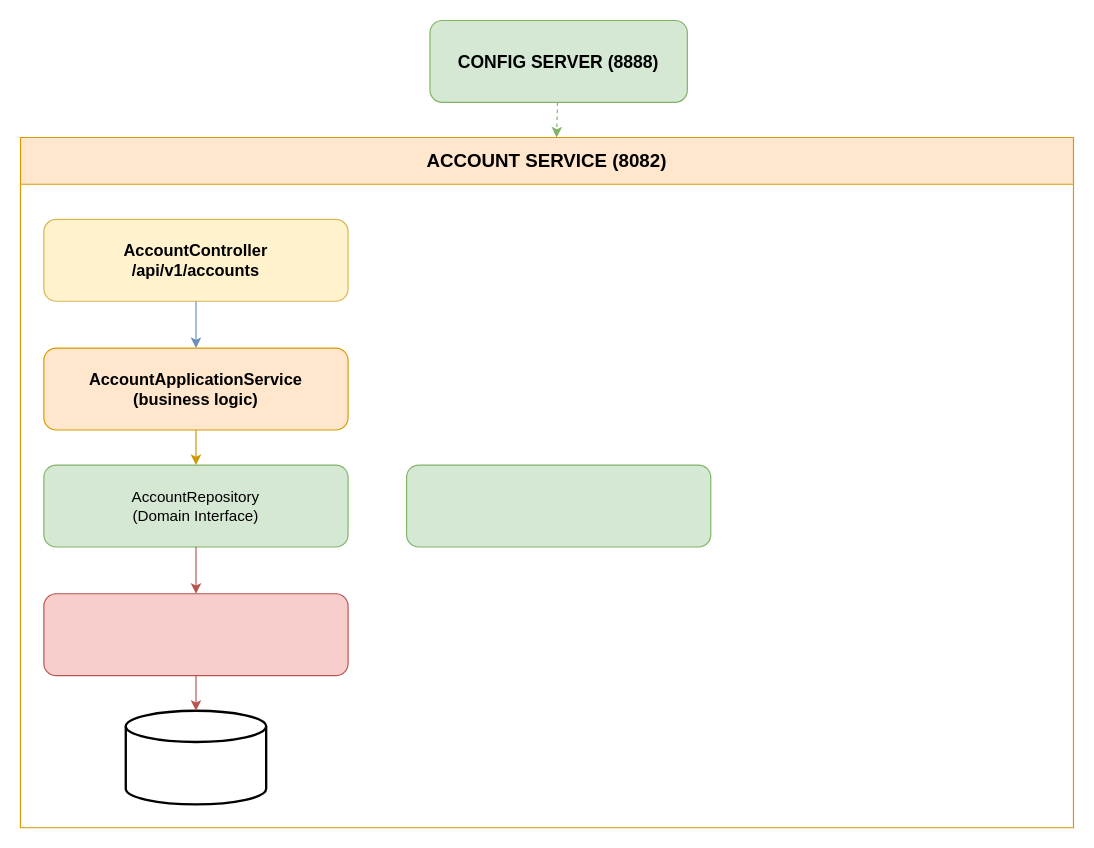
This 1094x848 diagram has some shape labels left out. Here are the shapes that lost their labels. From the top down, the centre of each, then its label:
At (x=558, y=505): "Account Model".
At (x=195, y=634): "MongoAccountRepository (implements AccountRepository)".
At (x=195, y=757): "MongoDB accounts collection".
